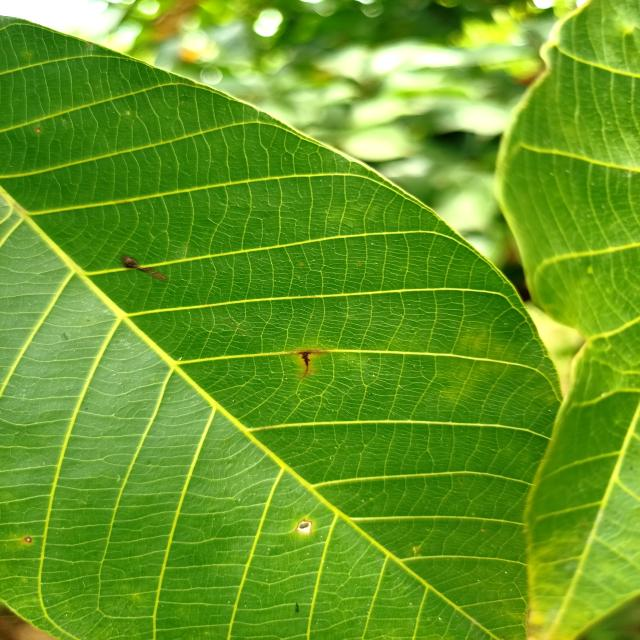Corynespora: (296, 351, 315, 375)
